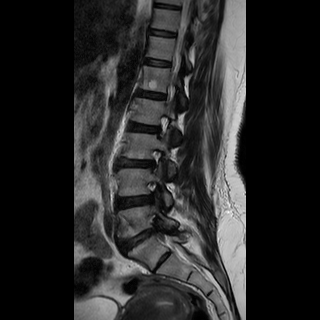LFS1: (151, 111, 174, 143)
LFS2: (143, 145, 167, 174)
LFS3: (142, 177, 164, 208)
